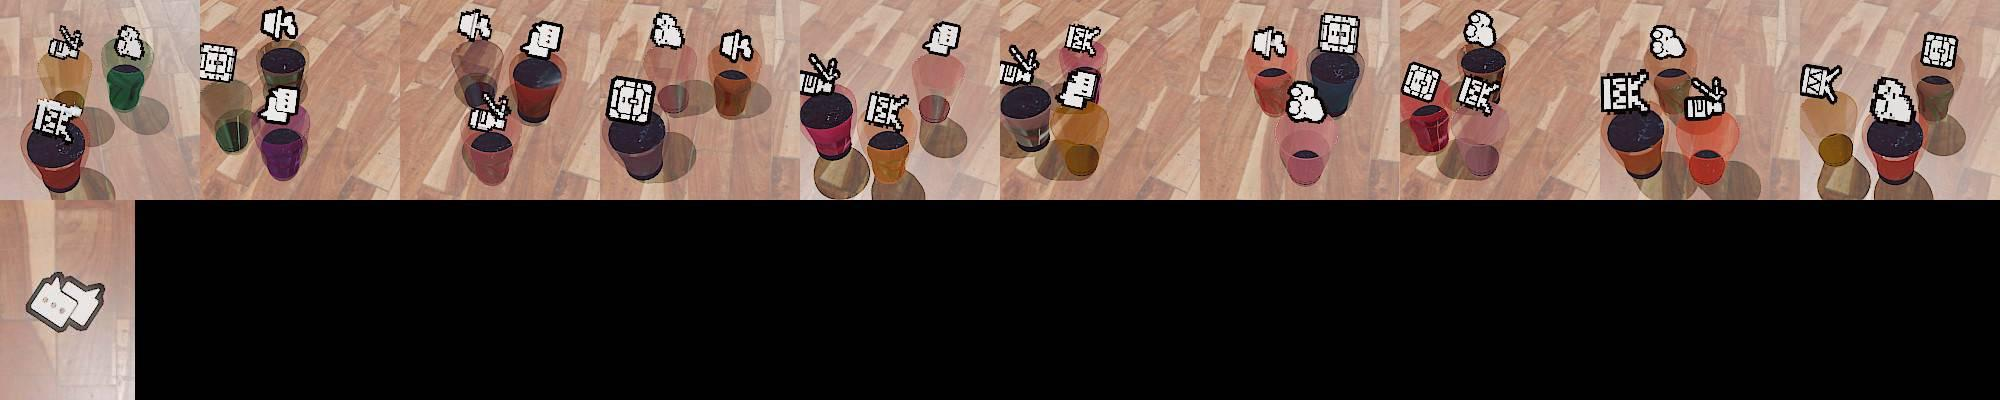icon: (26, 271, 107, 334), (605, 74, 656, 124), (1599, 70, 1651, 116), (1682, 74, 1730, 122), (1869, 75, 1917, 122), (32, 97, 82, 140), (1455, 73, 1501, 117), (466, 90, 511, 134), (997, 42, 1041, 88), (1316, 11, 1360, 57), (519, 19, 565, 61), (864, 90, 911, 131), (798, 52, 842, 96), (1056, 68, 1099, 111), (1798, 62, 1842, 103), (1286, 80, 1325, 124), (1402, 61, 1441, 104), (198, 42, 237, 84), (259, 85, 301, 125), (923, 19, 962, 57), (1921, 32, 1959, 70), (260, 6, 298, 43), (47, 23, 84, 61), (651, 11, 686, 50), (718, 28, 756, 64), (1064, 20, 1102, 56), (1648, 24, 1685, 60), (457, 8, 492, 45), (1463, 9, 1496, 48), (1251, 25, 1288, 60), (115, 24, 147, 61)
